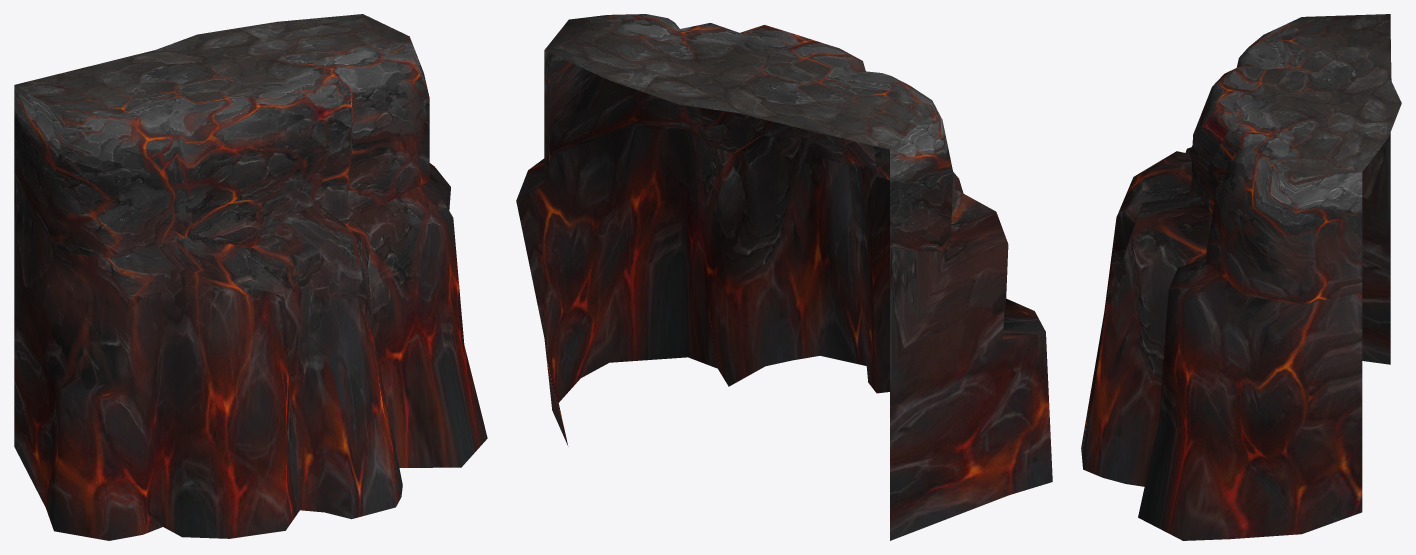
File: 10504_LavaStone04.FBX
3 views of the same model, side by side, from view 1: azimuth 30°, elevation 25°; view 2: azimuth 150°, elevation 25°; view 3: azimuth 270°, elevation 25° (orthographic). The views are drawn at different scales.
Parts seen in each view (by area): view 1: 10504_LavaStone04; view 2: 10504_LavaStone04; view 3: 10504_LavaStone04.
Boxes of the visible parts, box(x1,y1,x2,y2) form: 10504_LavaStone04: box(14, 14, 487, 540); 10504_LavaStone04: box(516, 14, 1052, 540); 10504_LavaStone04: box(1081, 14, 1401, 540).
Size of the model in its own units: 1333 by 1074 by 882.
